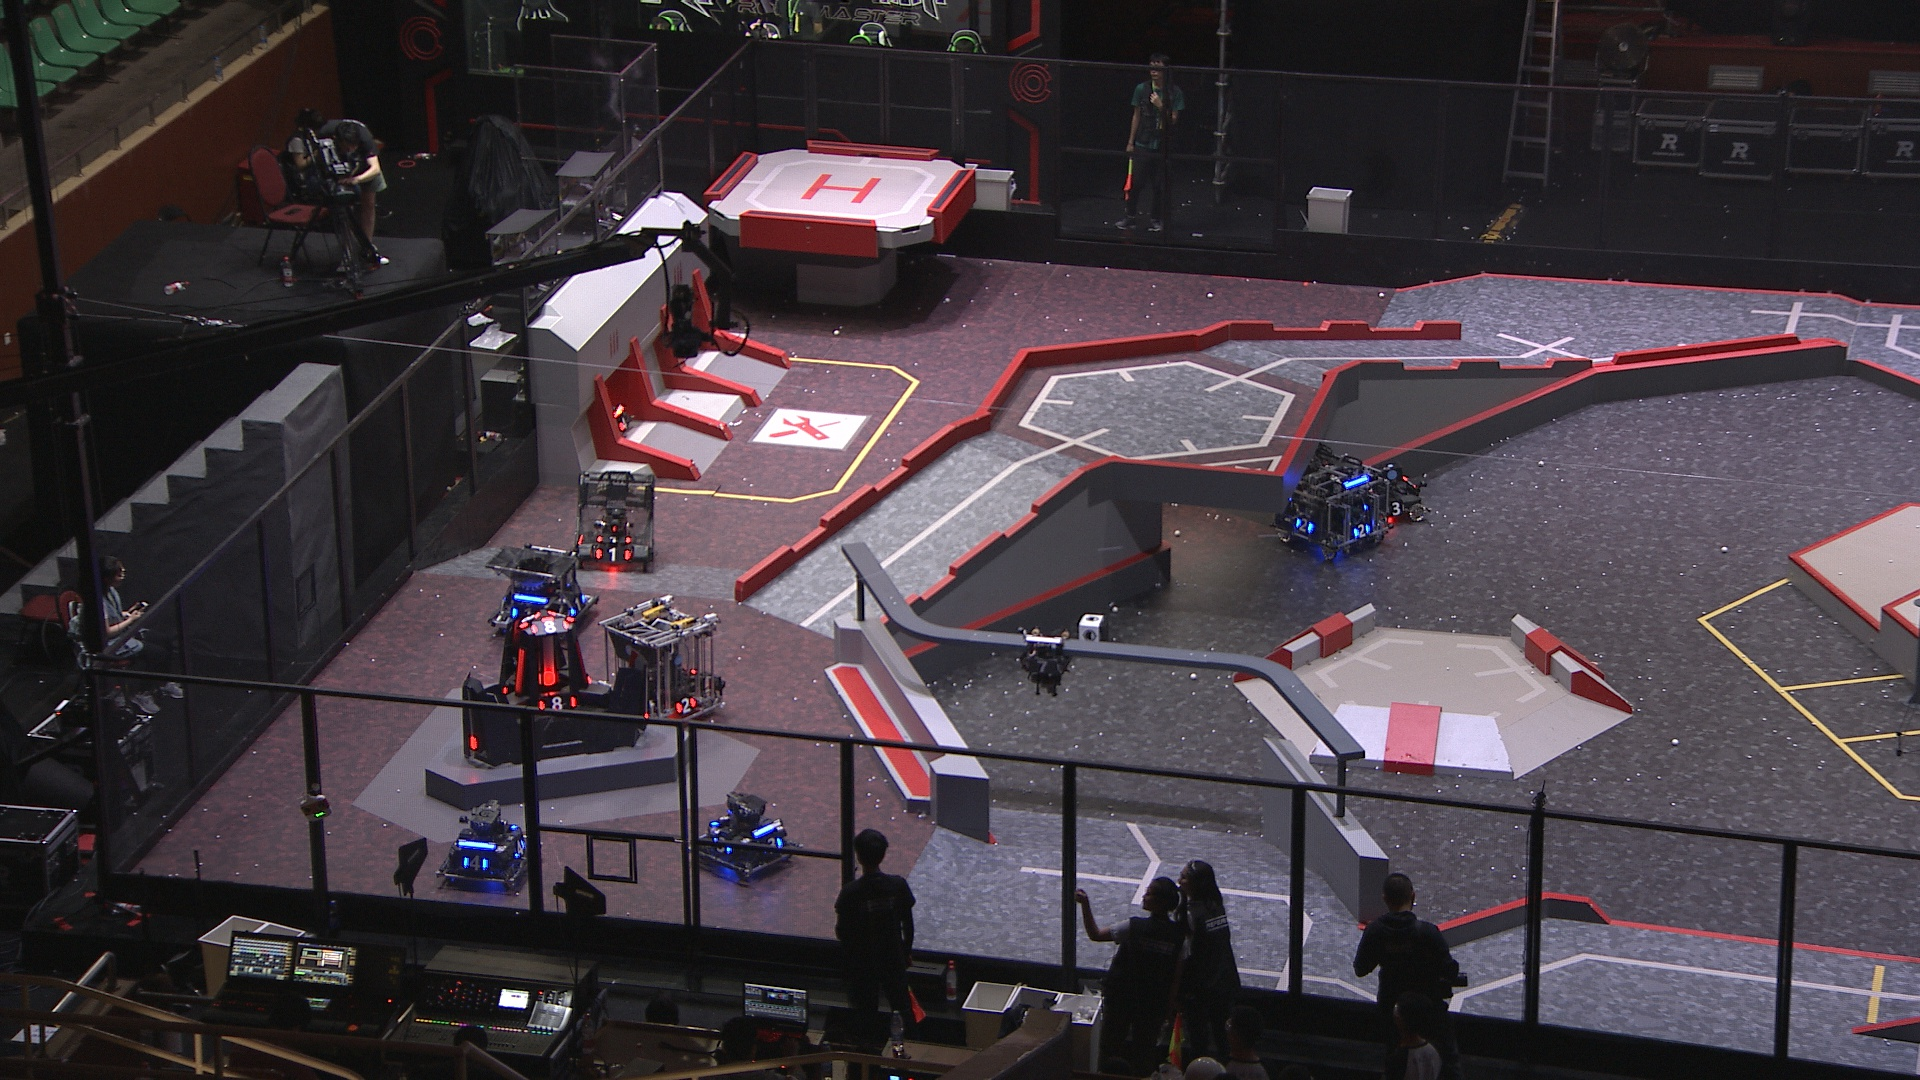armor: (531, 617, 572, 636), (593, 546, 632, 564), (1025, 659, 1062, 676), (513, 647, 526, 695), (595, 531, 632, 547), (539, 698, 576, 713), (673, 694, 698, 716), (570, 591, 589, 617), (462, 855, 489, 873), (711, 837, 738, 853), (1352, 522, 1373, 541), (520, 609, 539, 628), (1385, 498, 1406, 516), (1292, 518, 1313, 535), (764, 835, 782, 853), (513, 837, 526, 862), (617, 410, 632, 433), (542, 666, 553, 690), (465, 736, 479, 752), (642, 711, 650, 723)
base: (458, 605, 654, 767)
car: (603, 603, 727, 728), (1261, 436, 1389, 555), (481, 542, 596, 640), (564, 463, 661, 571), (429, 799, 531, 894), (688, 793, 799, 880), (1356, 458, 1432, 533), (584, 394, 646, 458)
watcher: (1015, 626, 1076, 695)
